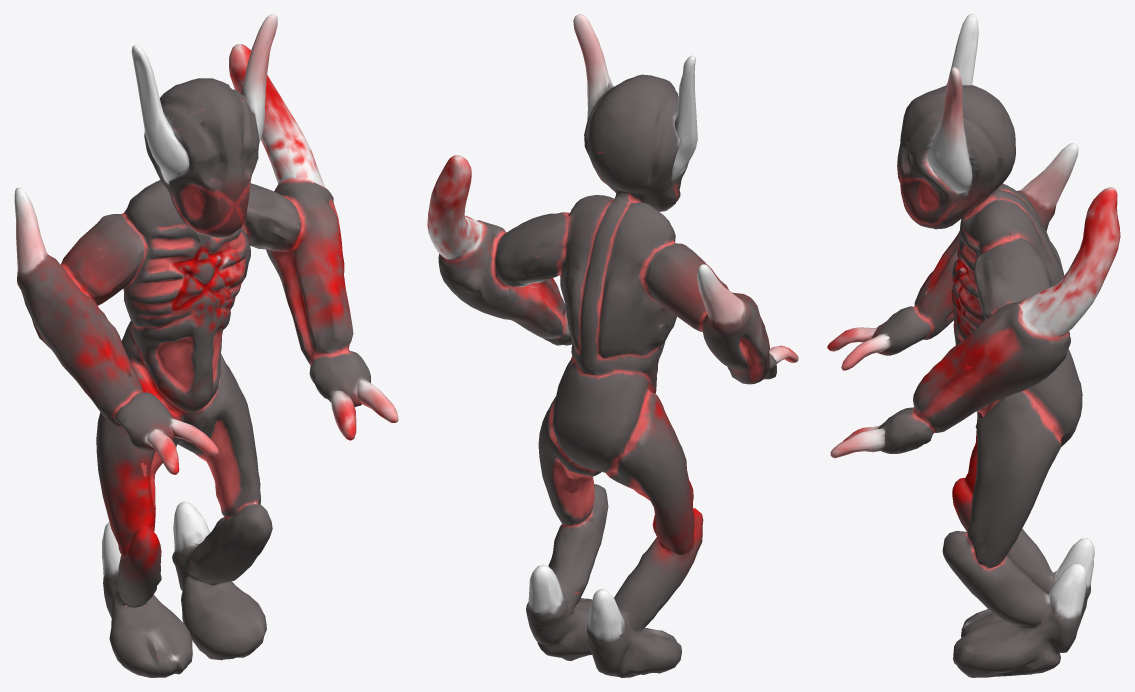
Rendered from creature_lowPoly.fbx.
3 views of the same model, side by side, from view 1: azimuth 30°, elevation 25°; view 2: azimuth 150°, elevation 25°; view 3: azimuth 270°, elevation 25° (orthographic). The views are drawn at different scales.
Parts seen in each view (by area): view 1: creature; view 2: creature; view 3: creature.
Part boxes in pixels (box(x1,y1,x2,y2)): creature: box(14, 14, 398, 677); creature: box(427, 14, 798, 677); creature: box(827, 14, 1120, 677).
Size of the model in its own units: 1134 by 2246 by 955.
